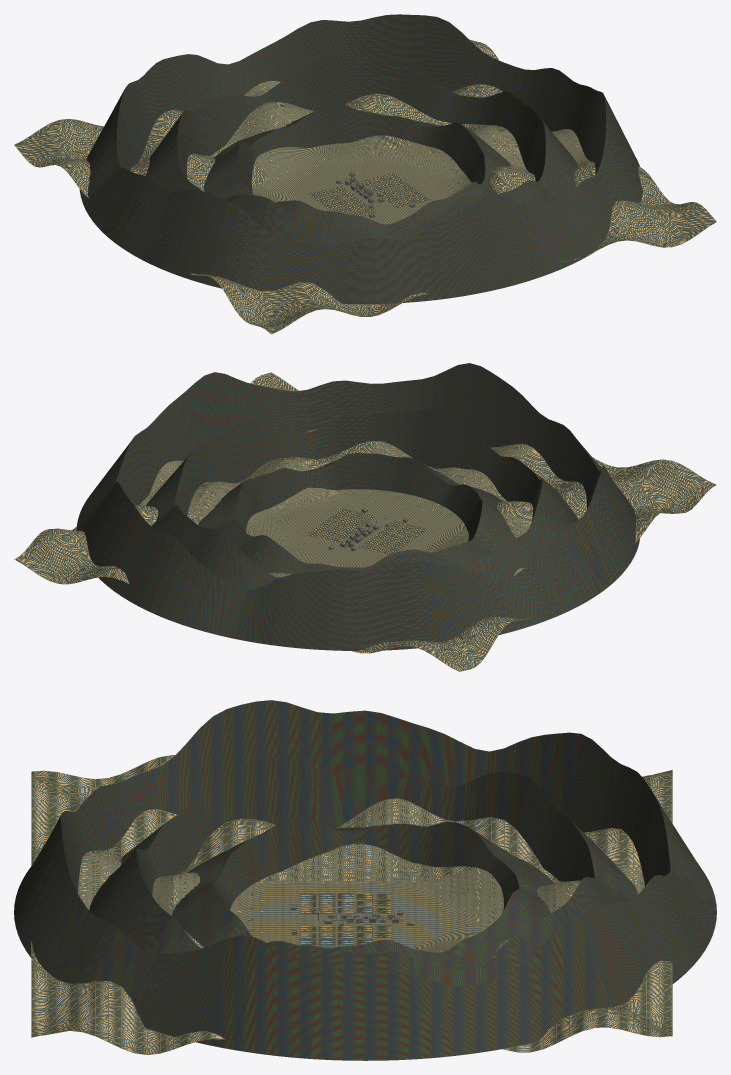
The model's file is kasumi_town.glb.
3 views of the same model, one above another, from view 1: azimuth 30°, elevation 25°; view 2: azimuth 150°, elevation 25°; view 3: azimuth 270°, elevation 25° (orthographic). The views are drawn at different scales.
Parts seen in each view (by area): view 1: Mountain_rim_2, Valley_floor_and_field_beds, Mountain_rim_1, Mountain_rim_0, Irrigation_banks_and_paths; view 2: Mountain_rim_2, Valley_floor_and_field_beds, Mountain_rim_1, Mountain_rim_0, Irrigation_banks_and_paths; view 3: Mountain_rim_2, Valley_floor_and_field_beds, Mountain_rim_1, Mountain_rim_0, Irrigation_banks_and_paths.
Part boxes in pixels (x1,y1,x2,y2): Mountain_rim_2: (79, 14, 643, 304); Valley_floor_and_field_beds: (14, 39, 716, 334); Mountain_rim_1: (145, 56, 577, 245); Mountain_rim_0: (204, 103, 511, 235); Irrigation_banks_and_paths: (308, 173, 429, 216); Mountain_rim_2: (76, 363, 639, 650); Valley_floor_and_field_beds: (14, 372, 716, 671); Mountain_rim_1: (146, 407, 577, 589); Mountain_rim_0: (198, 453, 515, 574); Irrigation_banks_and_paths: (306, 508, 427, 555); Mountain_rim_2: (14, 700, 716, 1060); Valley_floor_and_field_beds: (31, 755, 672, 1054); Mountain_rim_1: (89, 757, 638, 986); Mountain_rim_0: (172, 818, 554, 969); Irrigation_banks_and_paths: (300, 893, 391, 945).
Size of the model in its own units: 980 by 161 by 980.
16 materials, 16 textured.
